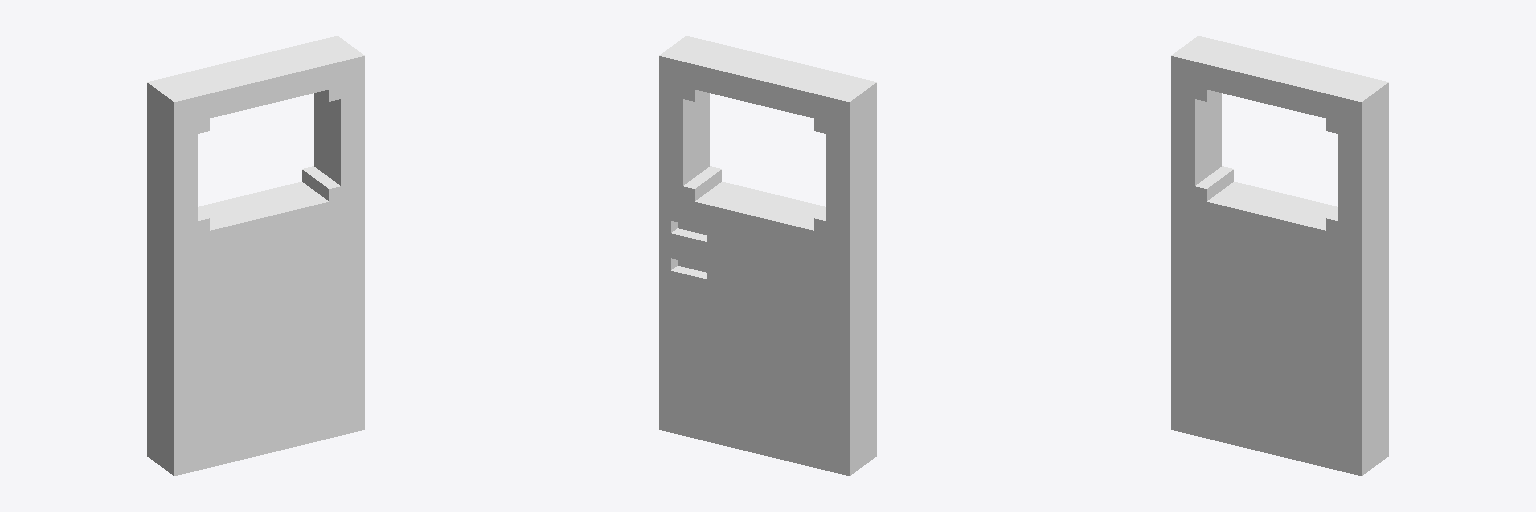
The model's file is rv:white-door.obj.
The picture shows the model from 3 angles: view 1: azimuth 30°, elevation 25°; view 2: azimuth 150°, elevation 25°; view 3: azimuth 330°, elevation 25°; orthographic projection.
Visible parts, largest first — view 1: RV:White-Door; view 2: RV:White-Door; view 3: RV:White-Door.
Boxes of the visible parts, x1=… form: RV:White-Door: x1=147, y1=36, x2=364, y2=475; RV:White-Door: x1=659, y1=36, x2=876, y2=475; RV:White-Door: x1=1171, y1=36, x2=1388, y2=475.
Size of the model in its own units: 16 by 30 by 4.